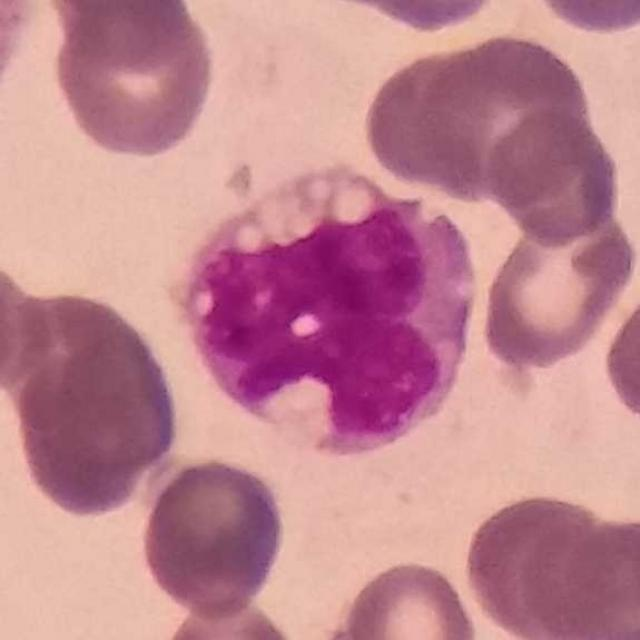mono: (170, 160, 483, 457)
